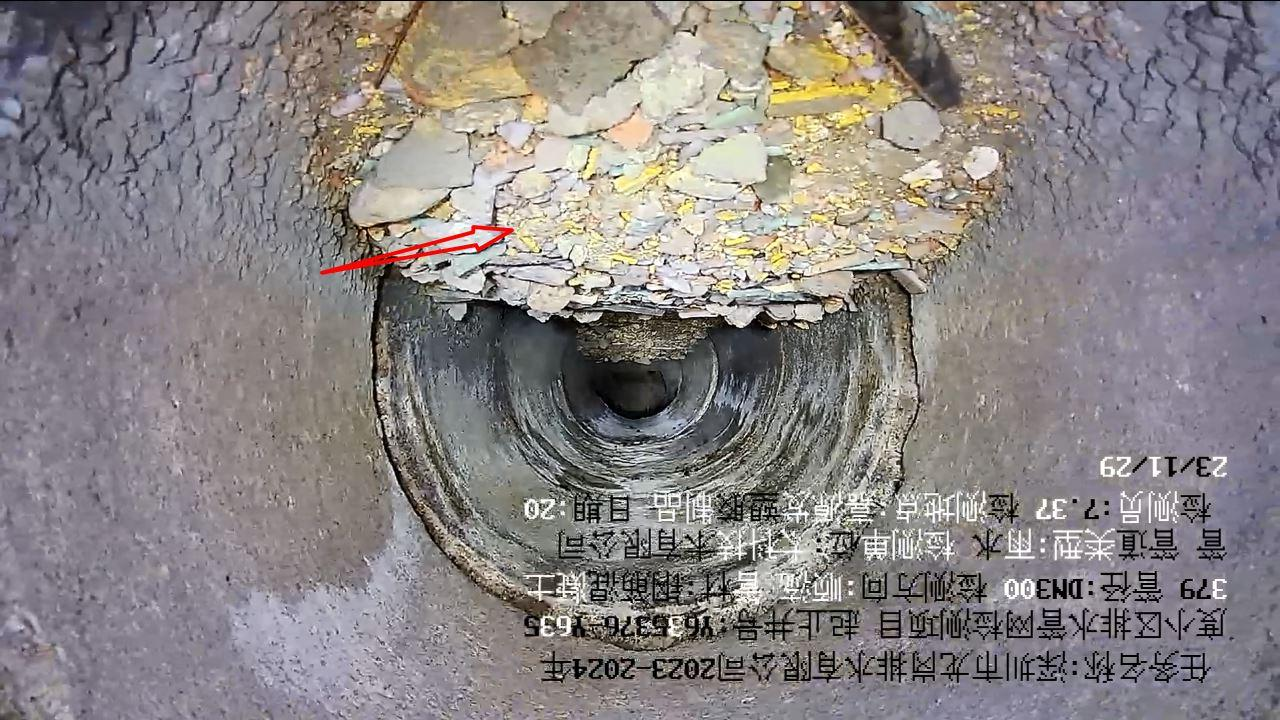CJ: (301, 4, 1033, 362)
CKTJ: (363, 262, 930, 656)
